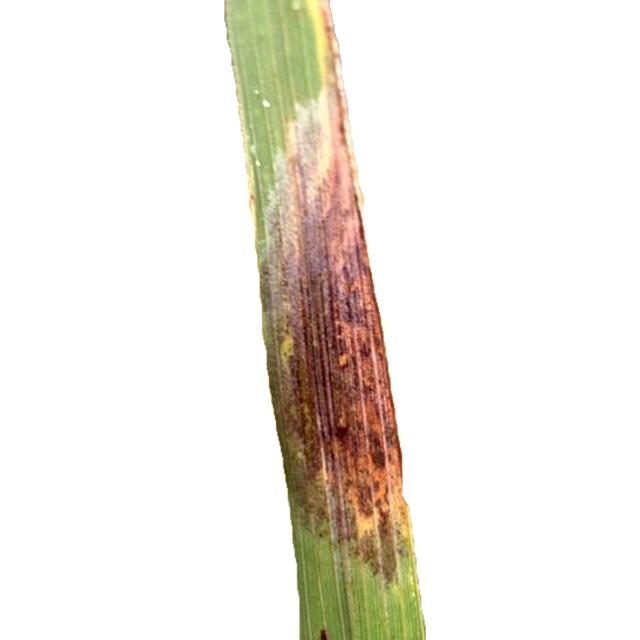Leaf scald: (184, 1, 484, 640)
